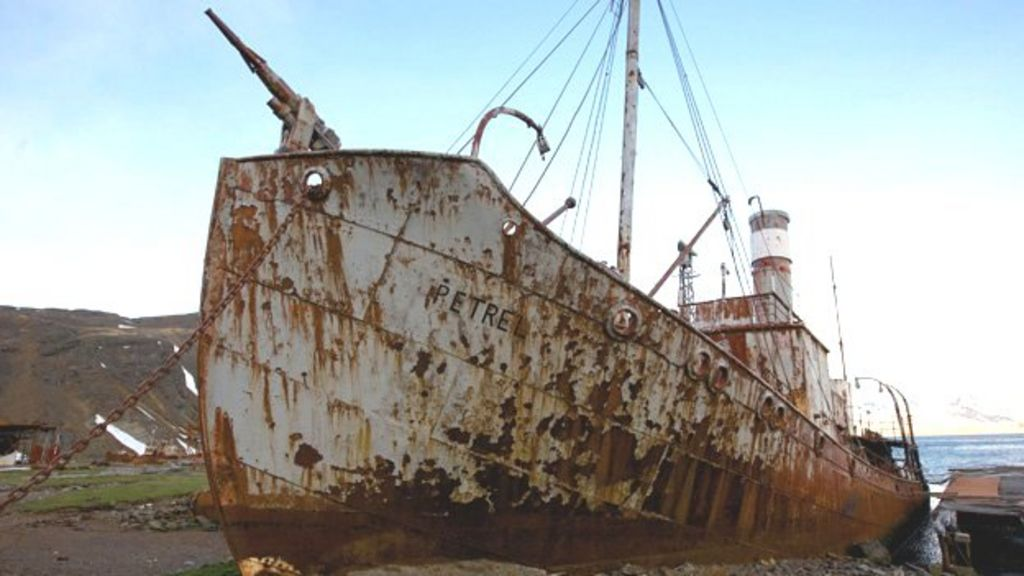rust: (687, 453, 897, 543), (548, 362, 634, 501), (208, 173, 269, 311), (200, 404, 263, 515), (354, 464, 474, 522)
